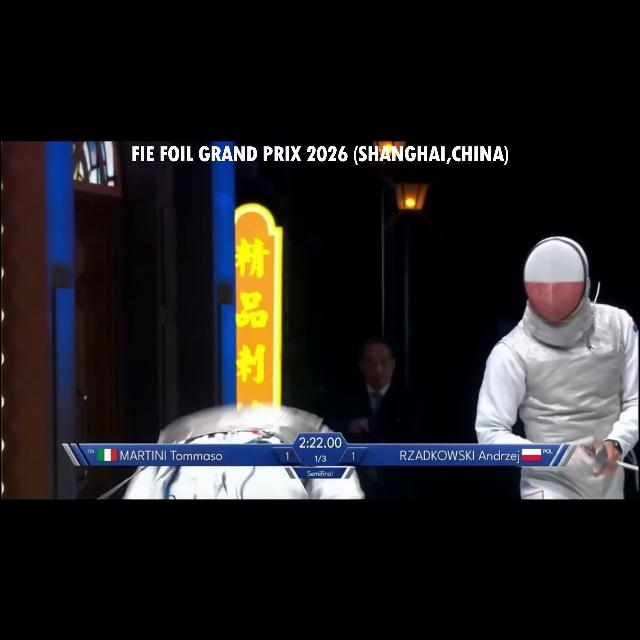blade: (589, 441, 640, 481)
